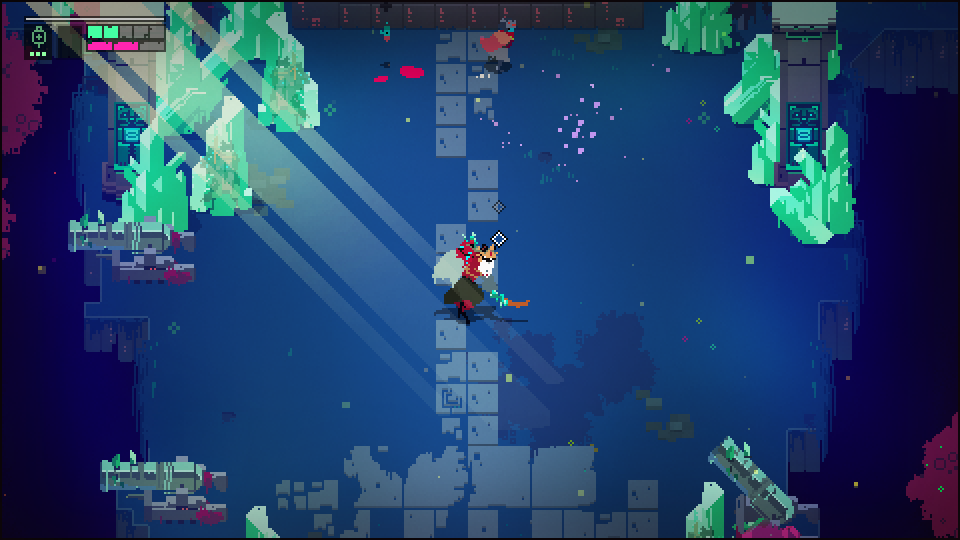hanged_man: (431, 223, 515, 324)
player: (474, 19, 518, 76)
